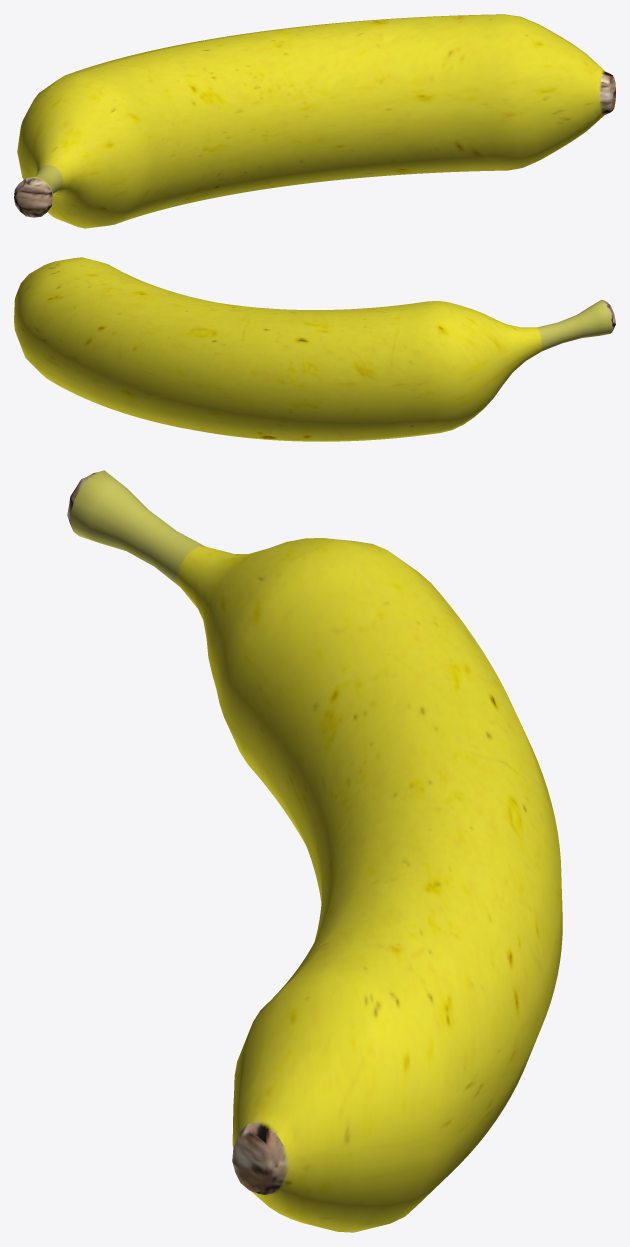
The model's file is banana.obj.
3 views of the same model, one above another, from view 1: azimuth 30°, elevation 25°; view 2: azimuth 150°, elevation 25°; view 3: azimuth 270°, elevation 25° (orthographic). The views are drawn at different scales.
Parts seen in each view (by area): view 1: Cylinder001; view 2: Cylinder001; view 3: Cylinder001.
Part boxes in pixels (x1=…): Cylinder001: x1=14, y1=14, x2=615, y2=228; Cylinder001: x1=14, y1=257, x2=615, y2=441; Cylinder001: x1=67, y1=470, x2=562, y2=1232.
Size of the model in its own units: 79.2 by 22.25 by 30.88.
1 material, 1 textured.
